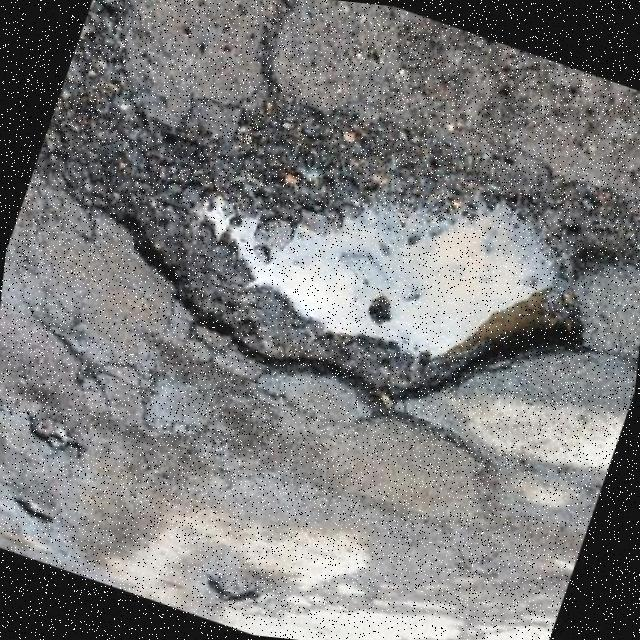Pothole: (49, 0, 640, 404)
